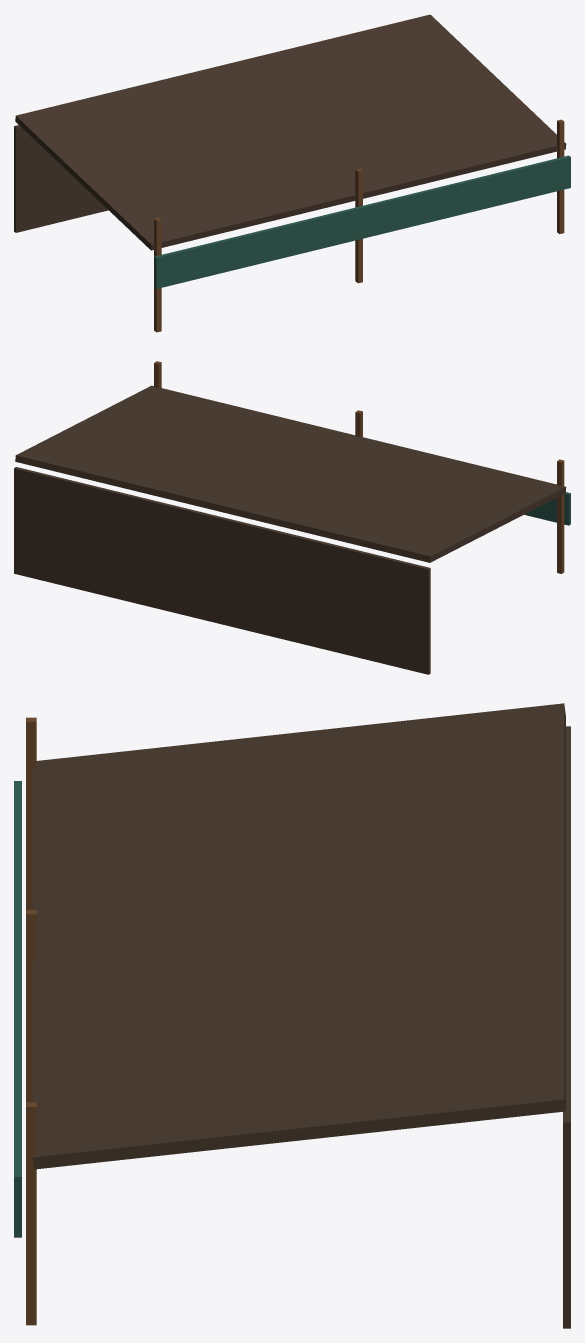
The model's file is tent.glb.
The picture shows the model from 3 angles, top to bottom: view 1: azimuth 30°, elevation 25°; view 2: azimuth 150°, elevation 25°; view 3: azimuth 270°, elevation 25°; orthographic projection. The views are drawn at different scales.
Visible parts, largest first — view 1: Tent; view 2: Tent; view 3: Tent.
Part boxes in pixels (bbox=[...]): Tent: bbox=[14, 14, 570, 332]; Tent: bbox=[14, 361, 570, 674]; Tent: bbox=[14, 703, 570, 1328].
Size of the model in its own units: 7 by 1.89 by 4.16.
